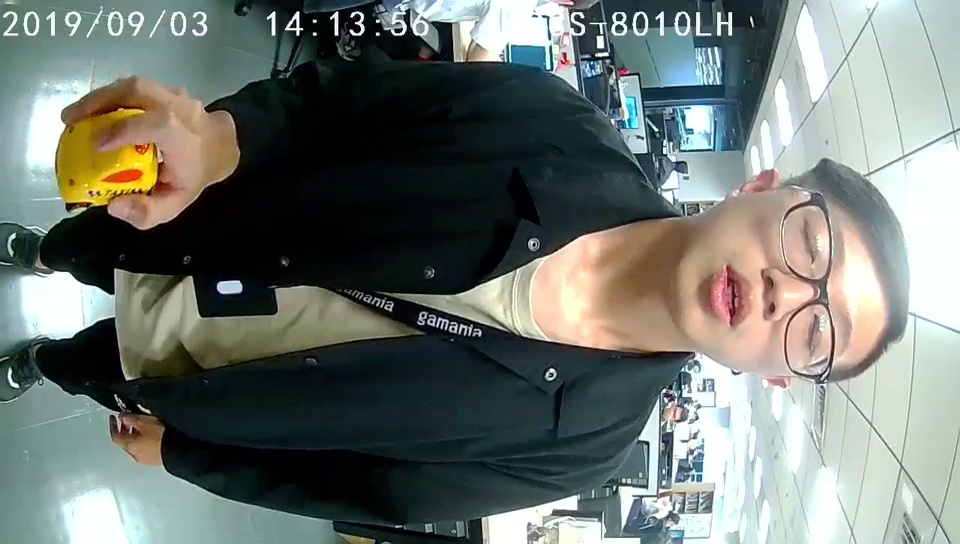car: (54, 107, 160, 214)
